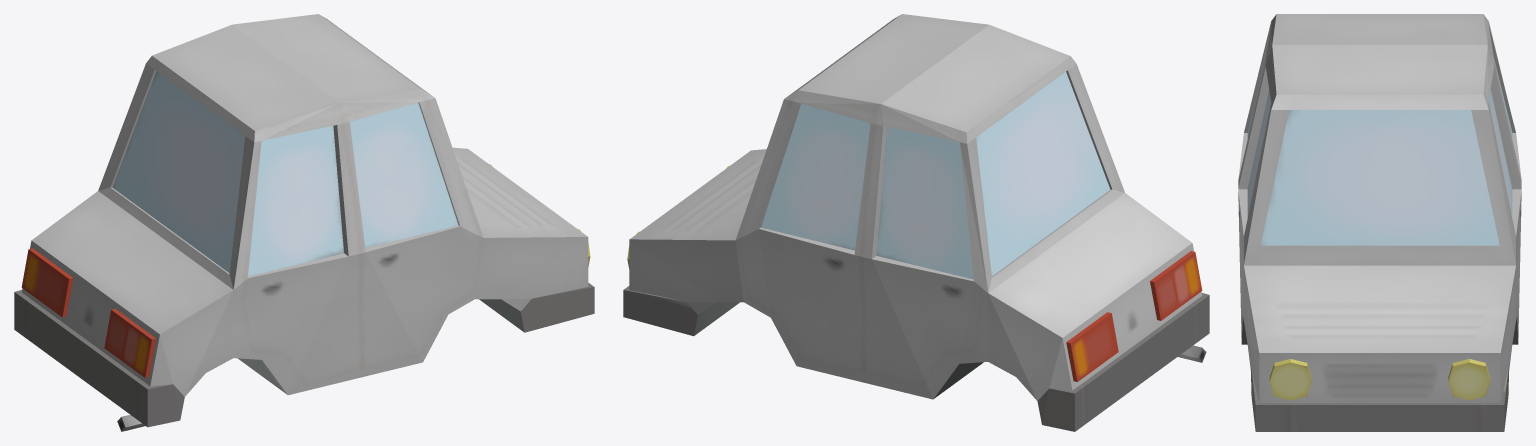
File: co_CarA_04.fbx
The picture shows the model from 3 angles, left to right: view 1: azimuth 30°, elevation 25°; view 2: azimuth 150°, elevation 25°; view 3: azimuth 270°, elevation 25°; orthographic projection.
Visible parts, largest first — view 1: CarA_04; view 2: CarA_04; view 3: CarA_04.
Part boxes in pixels (<box>): CarA_04: <box>14,14,594,431</box>; CarA_04: <box>623,14,1209,431</box>; CarA_04: <box>1238,14,1521,431</box>.
Size of the model in its own units: 422 by 243 by 223.
